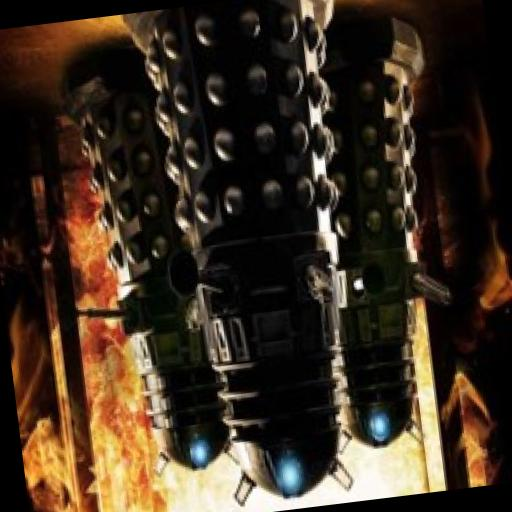dalek: (126, 0, 393, 512), (25, 44, 245, 491), (270, 9, 482, 460)
